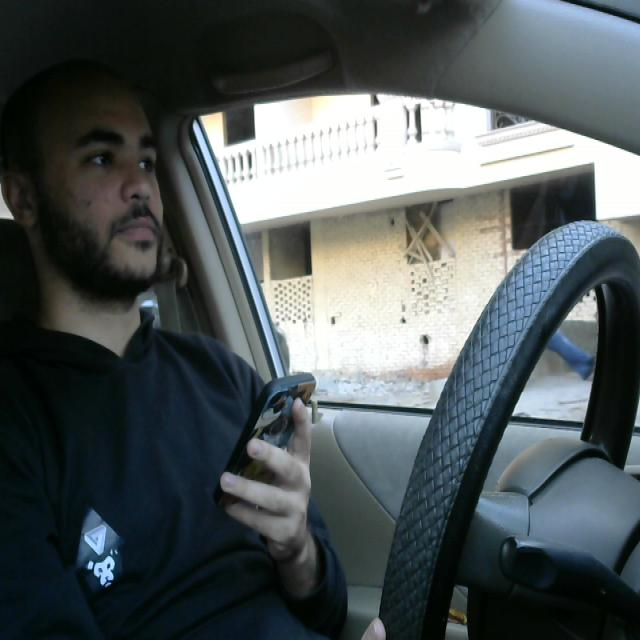mobile use: (213, 370, 319, 521)
